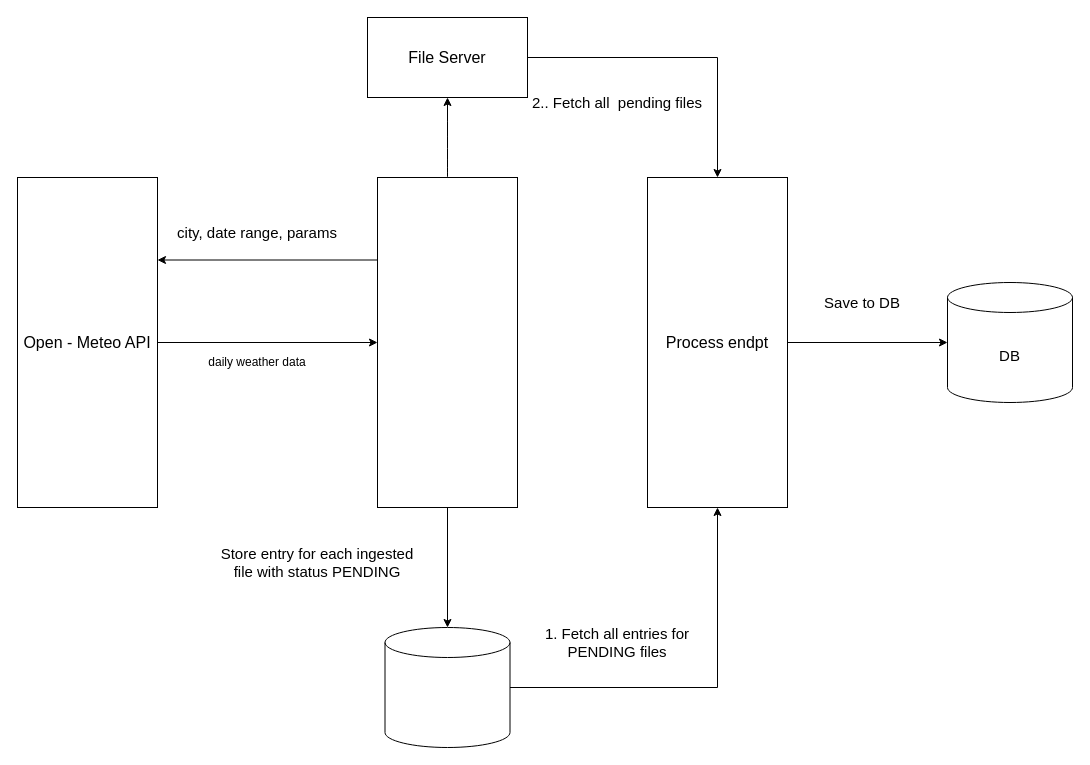
This 1090x765 diagram has some shape labels left out. Each missing label, with the centre of its shape:
"Ingestion endpt" goes at point 447,342.
"Ingestion Tracking Table" goes at point 447,687.
